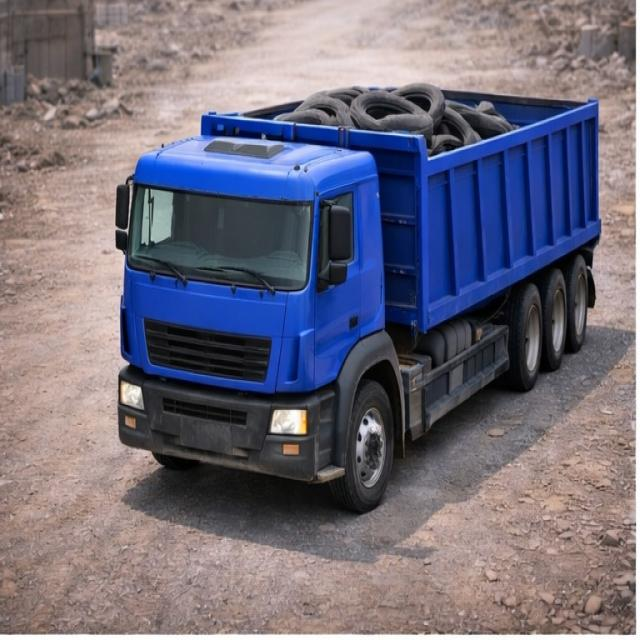trailer: (111, 60, 615, 462), (191, 83, 601, 150)
